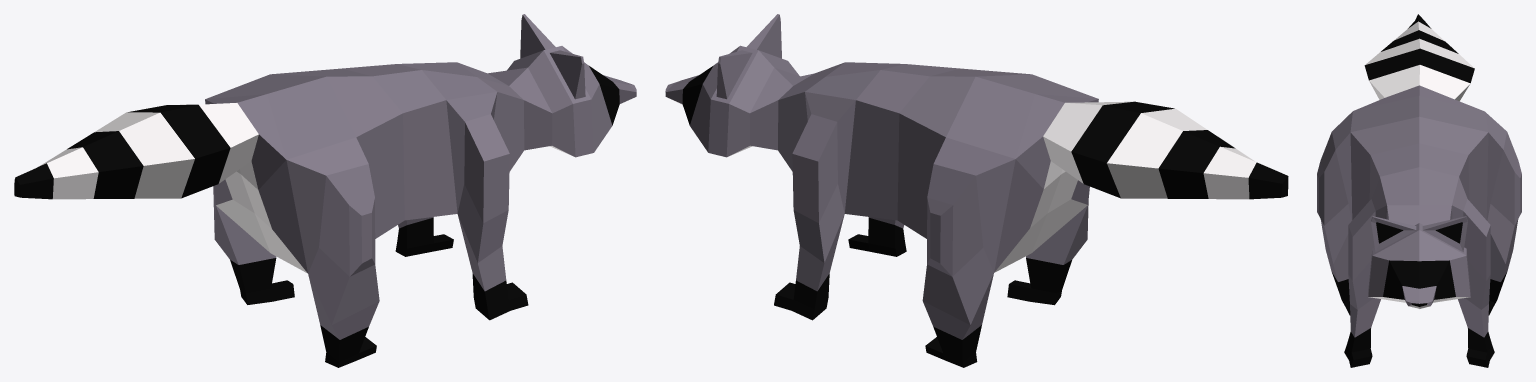
The model's file is raccoon.glb.
The picture shows the model from 3 angles, left to right: view 1: azimuth 30°, elevation 25°; view 2: azimuth 150°, elevation 25°; view 3: azimuth 270°, elevation 25°; orthographic projection. The views are drawn at different scales.
Visible parts, largest first — view 1: Cube; view 2: Cube; view 3: Cube.
Boxes of the visible parts, x1,y1,x2,y2 form: Cube: (14, 14, 636, 367); Cube: (665, 14, 1288, 367); Cube: (1317, 14, 1521, 367).
Bounding box in the file's own units: 2.2 × 0.8515 × 0.7857.
Materials: 3 (1 with a texture image).
